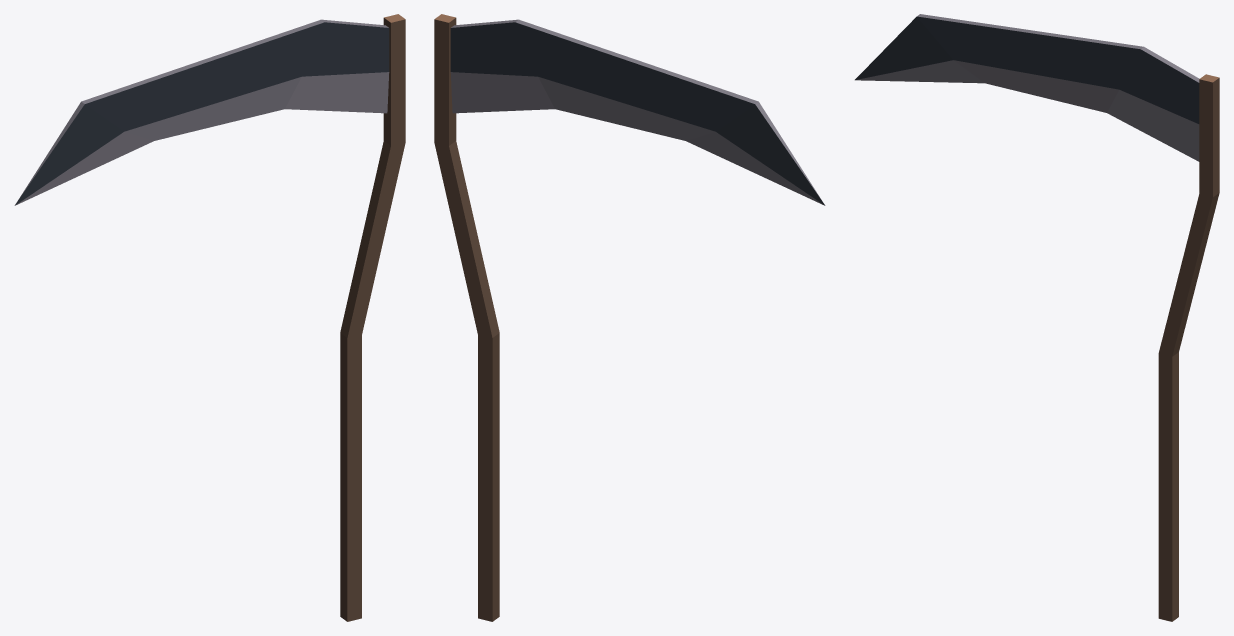
Rendered from TB_Prop_Scythe.FBX.
The picture shows the model from 3 angles, left to right: view 1: azimuth 30°, elevation 25°; view 2: azimuth 150°, elevation 25°; view 3: azimuth 330°, elevation 25°; orthographic projection. The views are drawn at different scales.
Parts seen in each view (by area): view 1: TB_Prop_Scythe; view 2: TB_Prop_Scythe; view 3: TB_Prop_Scythe.
Boxes of the visible parts, box(x1,y1,x2,y2) form: TB_Prop_Scythe: box(14, 14, 405, 621); TB_Prop_Scythe: box(434, 14, 825, 621); TB_Prop_Scythe: box(855, 14, 1219, 621).
Bounding box in the file's own units: 2.82 × 4.2 × 0.0916.
